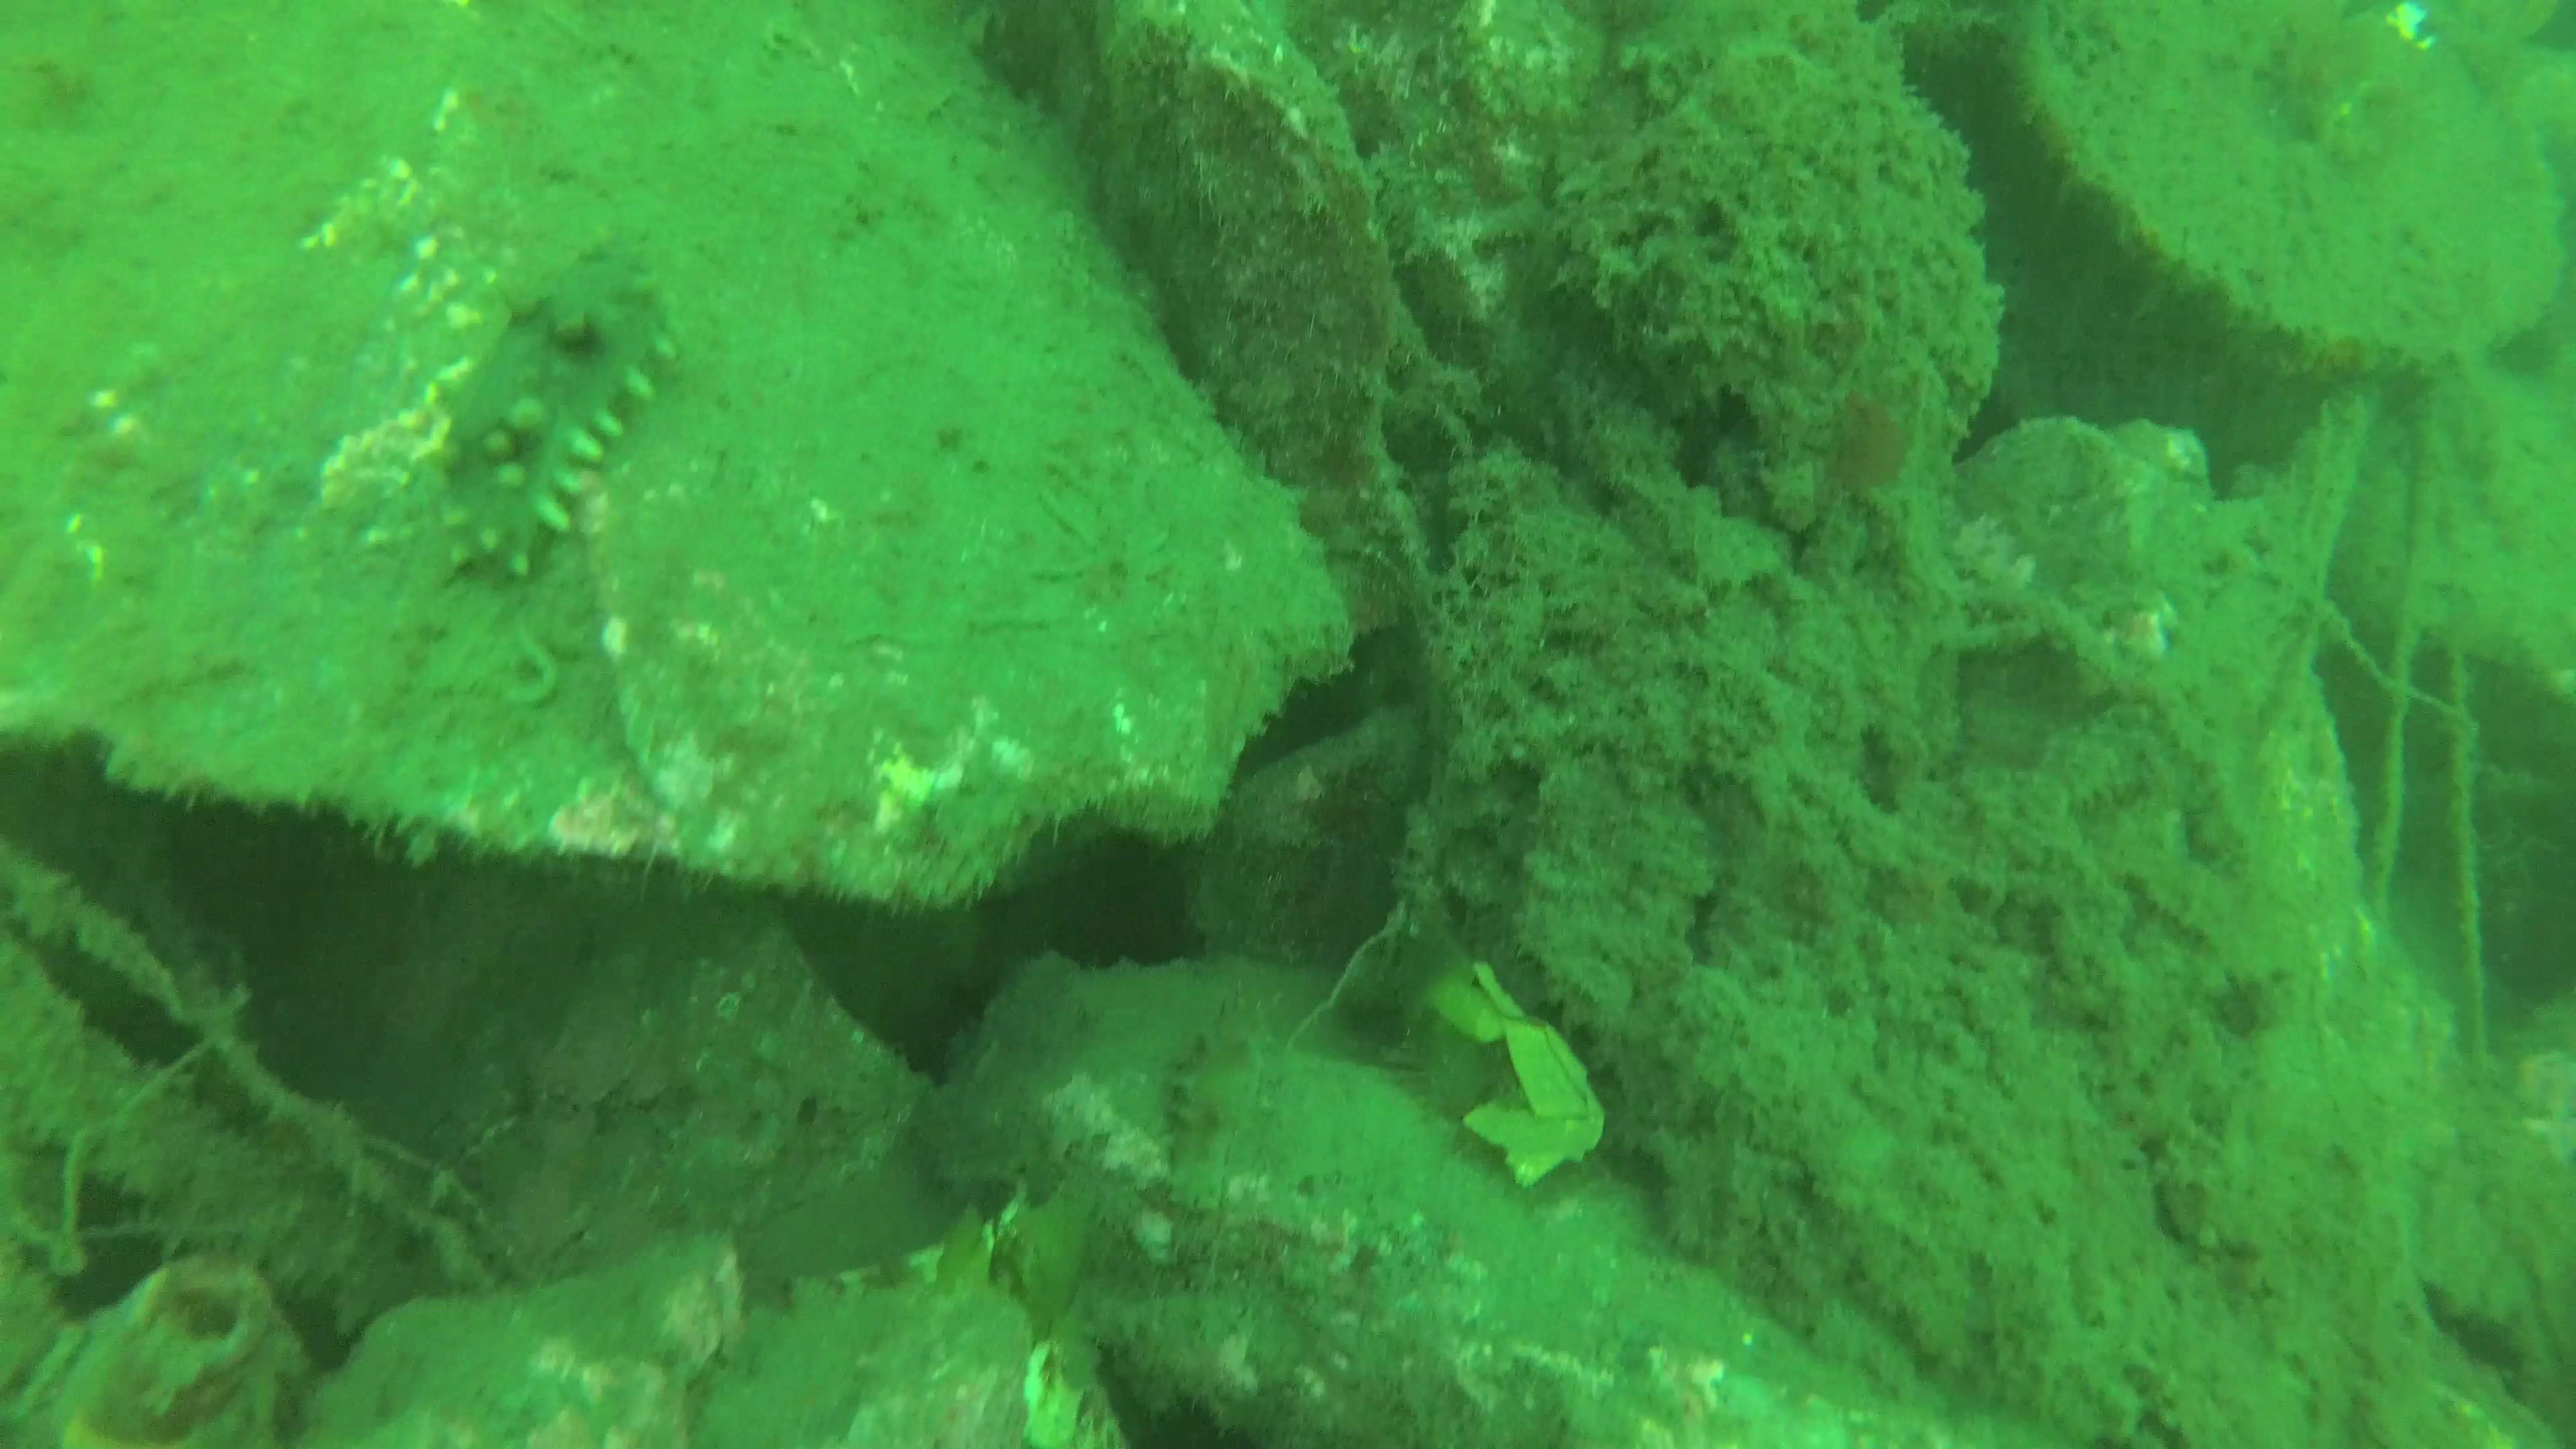echinus: (1389, 1003, 1516, 1123)
holothurian: (442, 242, 678, 580), (1173, 989, 1279, 1192)
